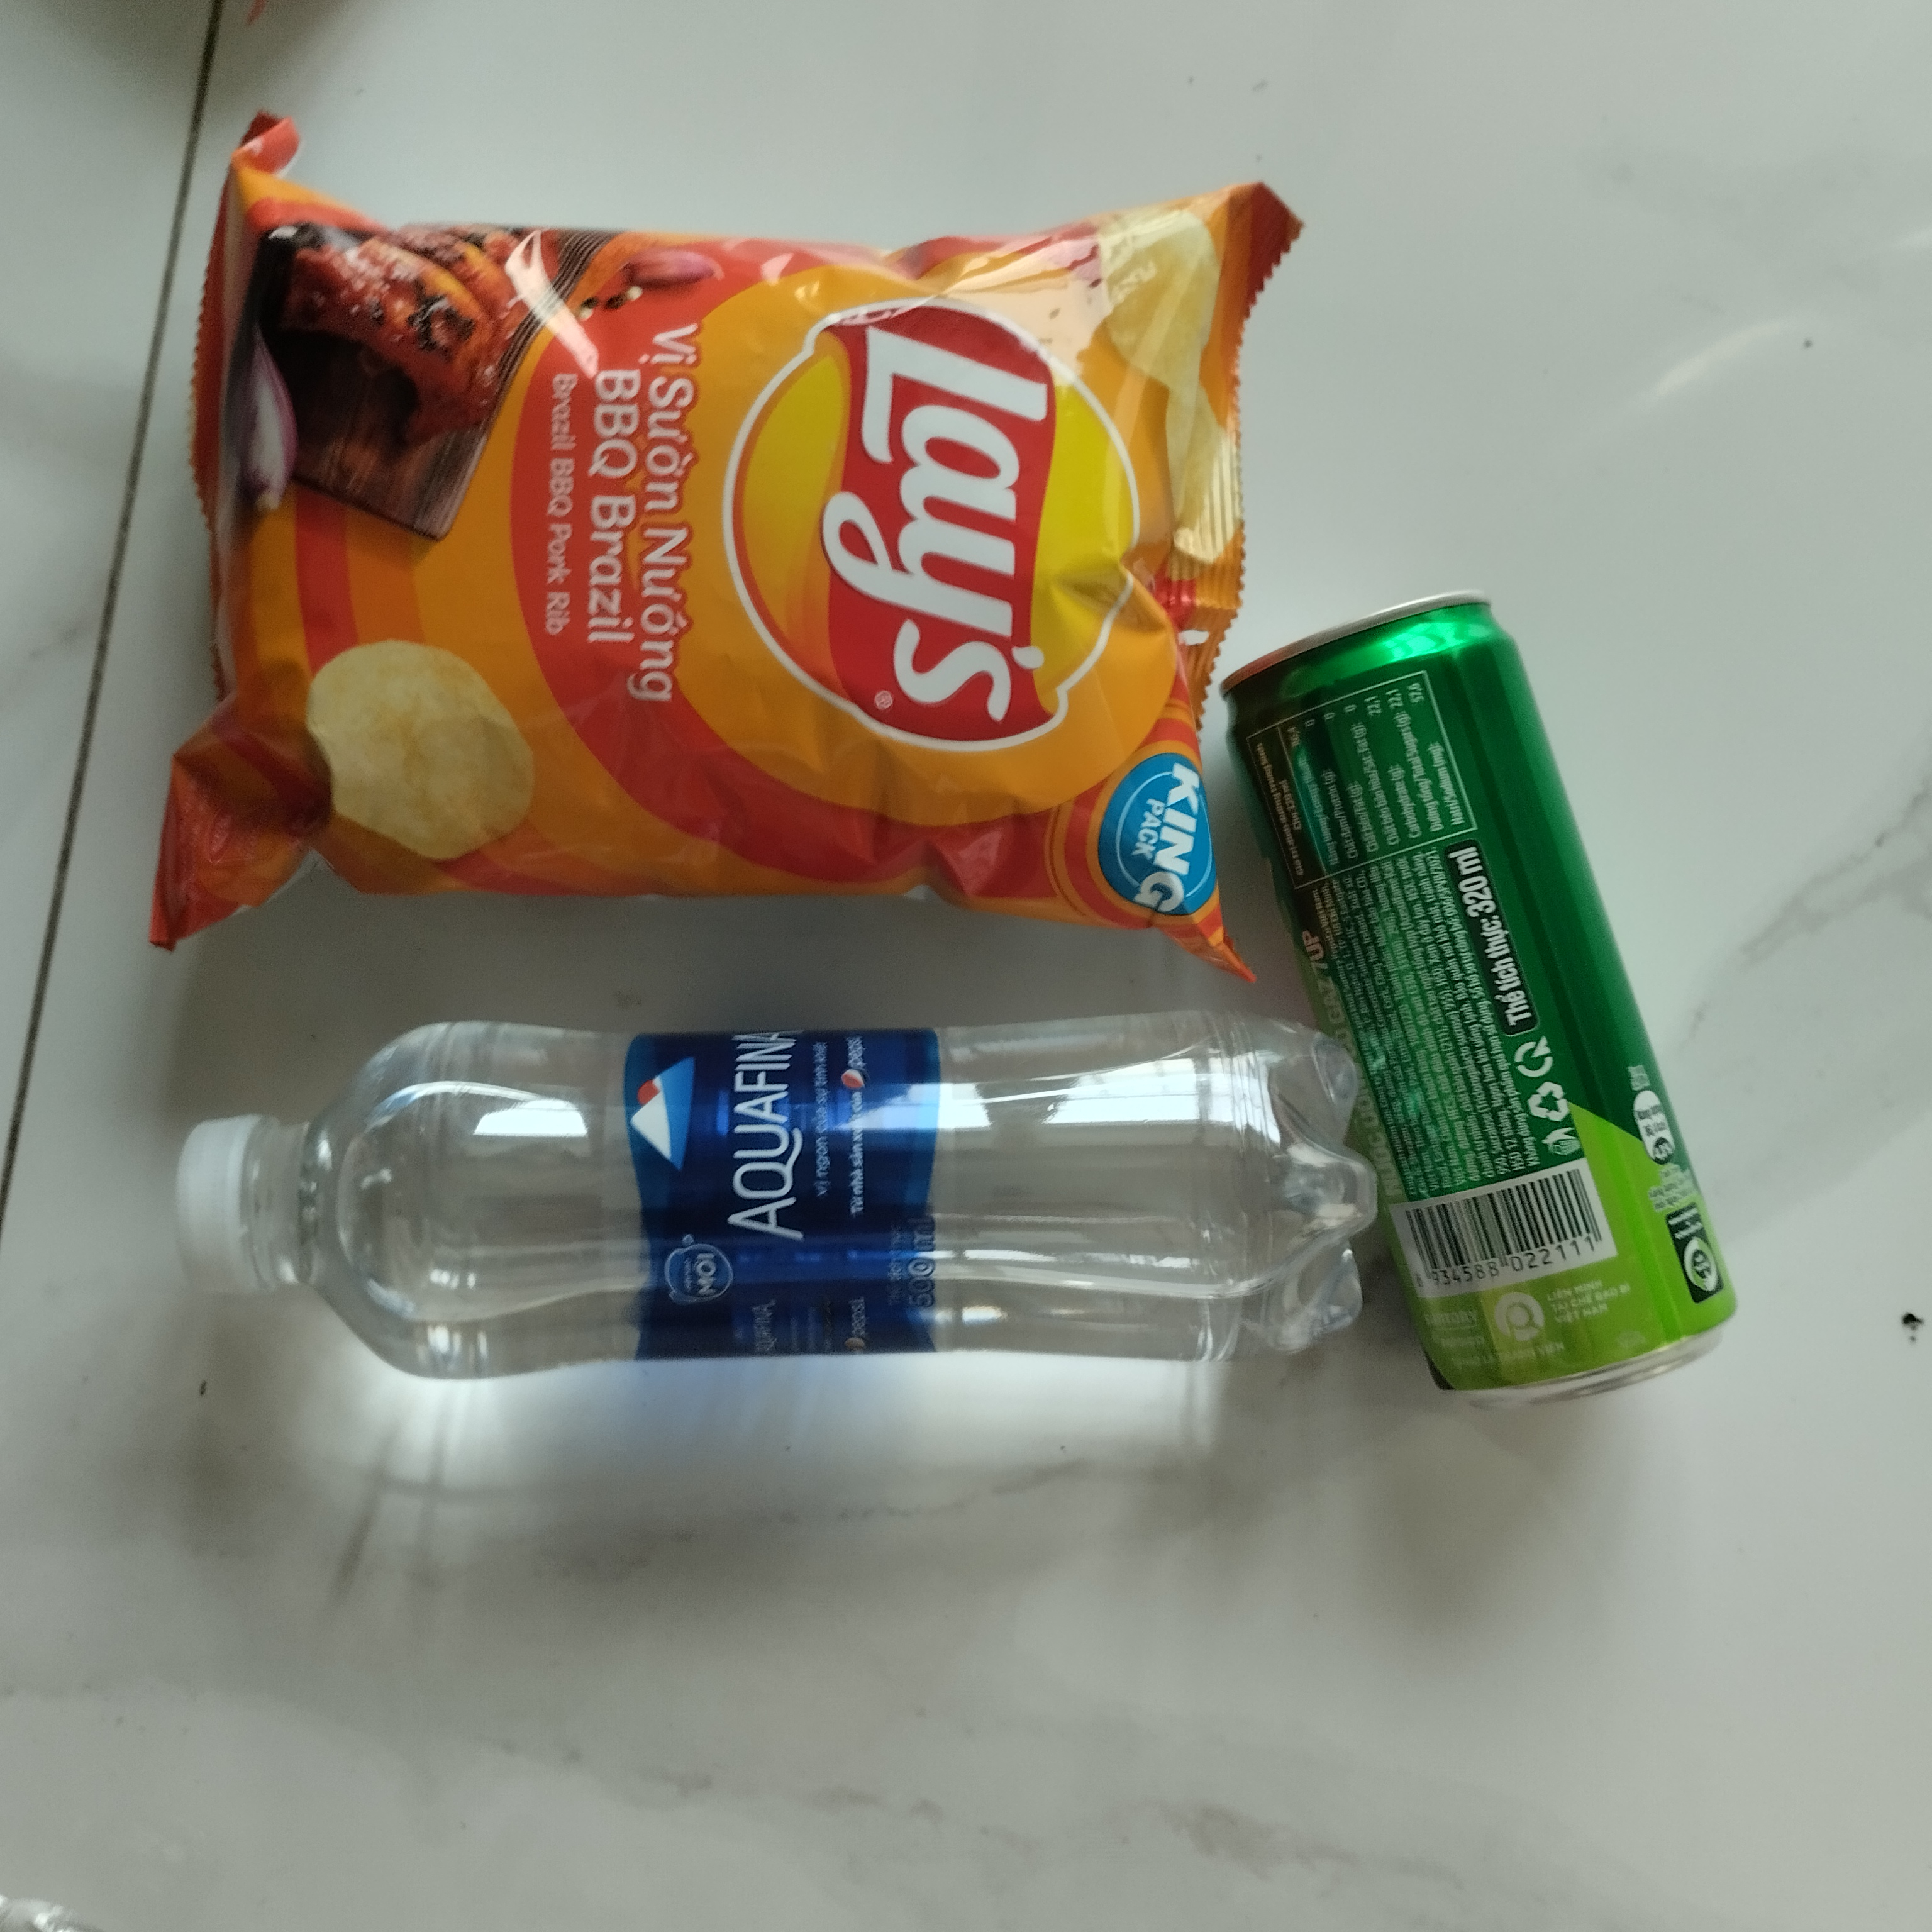7up: (1212, 586, 1746, 1419)
Aquafina: (145, 998, 1385, 1389)
Lays: (124, 103, 1295, 991)
